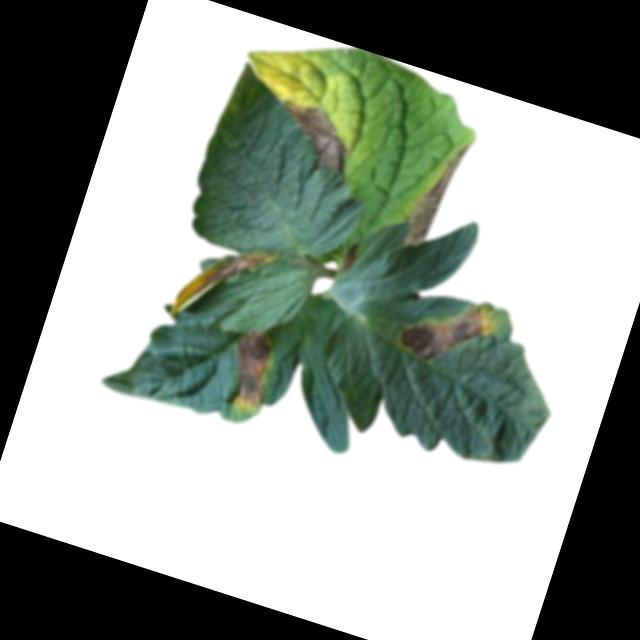Early_blight: (168, 228, 277, 342), (396, 134, 470, 260), (395, 289, 494, 378), (265, 97, 361, 183), (220, 323, 283, 414), (339, 242, 361, 276)
